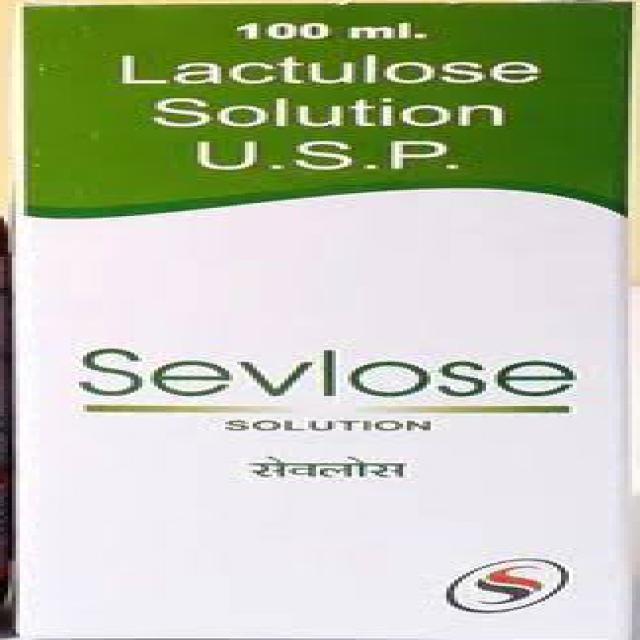drug-name: (78, 337, 576, 402)
